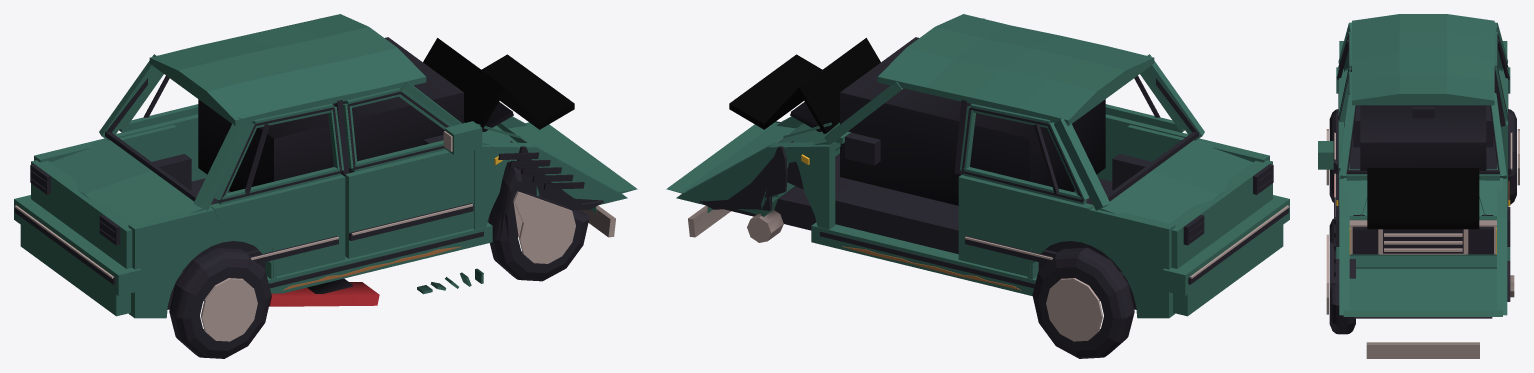
The model's file is veh.sedan-green.wrecked.glb.
3 renders of one model, left to right at view 1: azimuth 30°, elevation 25°; view 2: azimuth 150°, elevation 25°; view 3: azimuth 270°, elevation 25°, orthographic. The views are drawn at different scales.
Parts seen in each view (by area): view 1: body, object 8, wheelRR, wheelFR, lightsBrake; view 2: body, object 8, wheelRL, lightsBrake, wheelFL; view 3: body, object 8, wheelFR, lightsFront, wheelRL, wheelRR.
Part boxes in pixels (x1,y1,x2,y2): body: [14, 14, 637, 318]; object 8: [115, 37, 615, 306]; wheelRR: [169, 247, 271, 358]; wheelFR: [489, 162, 589, 281]; lightsBrake: [30, 164, 120, 245]; body: [666, 14, 1289, 318]; object 8: [688, 37, 1188, 276]; wheelRL: [1032, 247, 1134, 358]; lightsBrake: [1183, 164, 1273, 245]; wheelFL: [747, 210, 783, 242]; body: [1336, 14, 1510, 318]; object 8: [1318, 31, 1512, 358]; wheelFR: [1326, 217, 1355, 334]; lightsFront: [1349, 226, 1496, 254]; wheelRL: [1493, 109, 1519, 204]; wheelRR: [1326, 109, 1353, 202].
Size of the model in its own units: 4.33 by 1.85 by 1.73.
